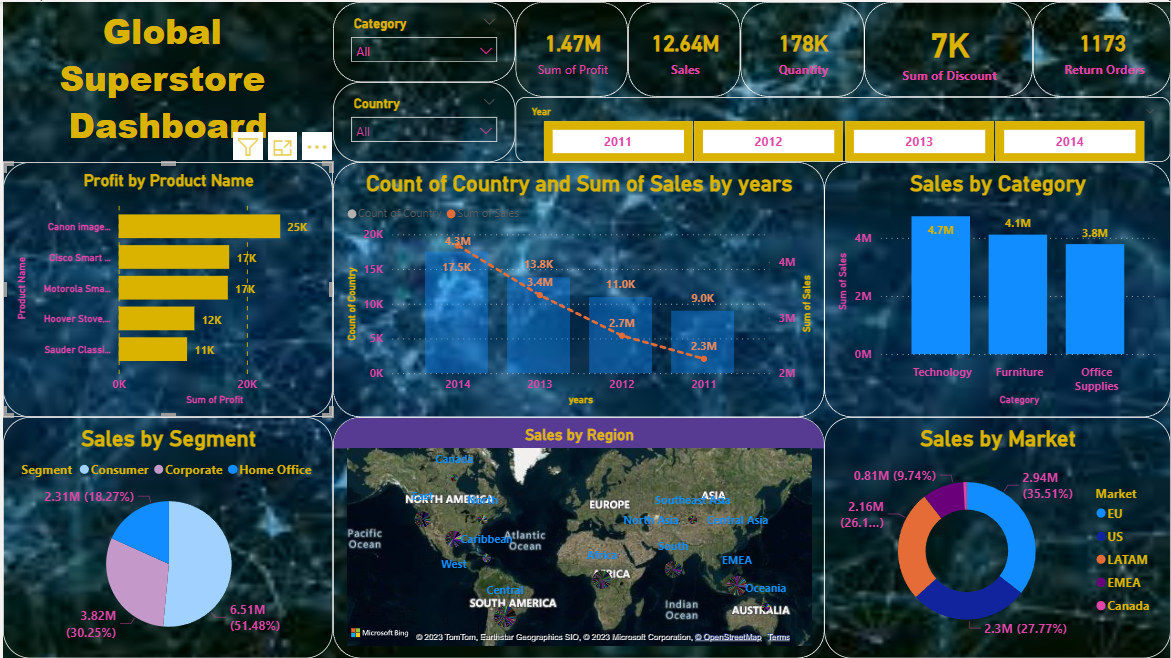

This screenshot's page, from the dashboard's own definition file:
{"tool":"powerbi","page":{"name":"Page 1","canvas":[1280,720],"ordinal":0},"visuals":[{"type":"textbox","box":[0,0,362,175.5],"z":0},{"type":"card","fields":{"Values":["Sum(Orders.Sales)"]},"box":[685.5,0,123.4,104.2],"z":1000},{"type":"card","fields":{"Values":["Sum(Orders.Quantity)"]},"box":[808.9,0,135.7,104.2],"z":2000},{"type":"card","fields":{"Values":["Sum(Orders.Discount)"]},"box":[944.7,0,185.1,104.2],"z":3000},{"type":"map","title":" Sales by Region","fields":{"Category":["Orders.Region"],"Size":["Sum(Orders.Sales)"],"Series":["Orders.Sales"]},"box":[362,455.2,538.8,264.6],"z":4000},{"type":"barChart","title":"Profit by Product Name","fields":{"Category":["Orders.Product Name"],"Y":["Sum(Orders.Profit)"]},"box":[0,175.5,362,279.7],"z":5000},{"type":"card","fields":{"Values":["Sum(Returns.Return Orders)"]},"box":[1129.7,0,150.8,104.2],"z":6000},{"type":"pieChart","title":" Sales by Segment","fields":{"Category":["Orders.Segment"],"Y":["Sum(Orders.Sales)"]},"box":[0,455.2,362,264.6],"z":7000},{"type":"donutChart","title":"Sales by Market","fields":{"Category":["Orders.Market"],"Y":["Sum(Orders.Sales)"]},"box":[900.8,455.2,379.8,264.6],"z":8000},{"type":"columnChart","title":"Sales by Category","fields":{"Category":["Orders.Category"],"Y":["Sum(Orders.Sales)"]},"box":[899.7,174.9,379.9,278.6],"z":9000},{"type":"lineStackedColumnComboChart","fields":{"Category":["Orders.years"],"Y2":["Sum(Orders.Sales)"],"Y":["CountNonNull(Orders.Country)"]},"box":[362,175.5,538.8,279.7],"z":10000},{"type":"card","fields":{"Values":["Sum(Orders.Profit)"]},"box":[562.1,0,123.4,104.2],"z":11000},{"type":"slicer","fields":{"Values":["Orders.Order Date.Variation.Date Hierarchy.Year"]},"box":[562.1,104.2,718.4,71.3],"z":12000},{"type":"slicer","fields":{"Values":["Orders.Category"]},"box":[362,0,200.2,87.7],"z":13000},{"type":"slicer","fields":{"Values":["Orders.Country"]},"box":[362,87.7,200.2,87.7],"z":14000}]}

Visuals, with their boxes in screenshot pixels (x1, y1, x2, y2), scaled from the page's 1280x720 canvas onto the 1171x658 screenshot:
textbox: 0/0/331/160
card - Sum(Orders.Sales): 627/0/740/95
card - Sum(Orders.Quantity): 740/0/864/95
card - Sum(Orders.Discount): 864/0/1034/95
" Sales by Region" map: 331/416/824/657
"Profit by Product Name" barChart: 0/160/331/416
card - Sum(Returns.Return Orders): 1033/0/1170/95
" Sales by Segment" pieChart: 0/416/331/657
"Sales by Market" donutChart: 824/416/1170/657
"Sales by Category" columnChart: 823/160/1170/414
lineStackedColumnComboChart - Orders.years x Sum(Orders.Sales): 331/160/824/416
card - Sum(Orders.Profit): 514/0/627/95
slicer - Orders.Order Date.Variation.Date Hierarchy.Year: 514/95/1170/160
slicer - Orders.Category: 331/0/514/80
slicer - Orders.Country: 331/80/514/160
